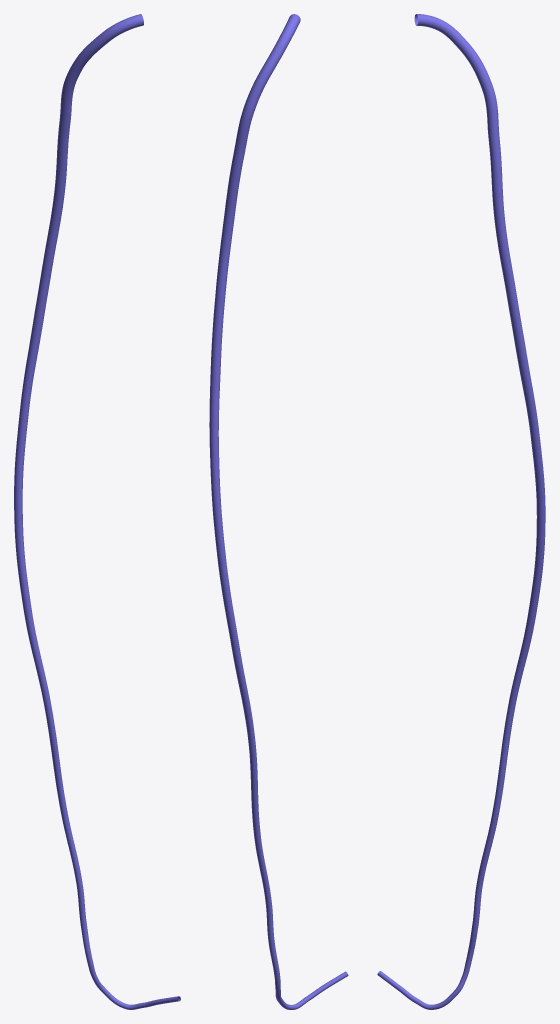
The model's file is Small_saphenous_vein.r_BezierCurve.321.glb.
3 renders of one model, left to right at view 1: azimuth 90°, elevation 25°; view 2: azimuth 150°, elevation 25°; view 3: azimuth 270°, elevation 25°, orthographic.
Parts seen in each view (by area): view 1: Small_saphenous_vein.r_BezierCurve.321; view 2: Small_saphenous_vein.r_BezierCurve.321; view 3: Small_saphenous_vein.r_BezierCurve.321.
Part boxes in pixels (box(x1,y1,x2,y2)): Small_saphenous_vein.r_BezierCurve.321: box(14, 14, 180, 1009); Small_saphenous_vein.r_BezierCurve.321: box(209, 14, 348, 1009); Small_saphenous_vein.r_BezierCurve.321: box(377, 14, 545, 1009).
Bounding box in the file's own units: 0.033 × 0.4568 × 0.0697.
